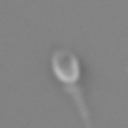normal: (56, 81, 101, 128)
